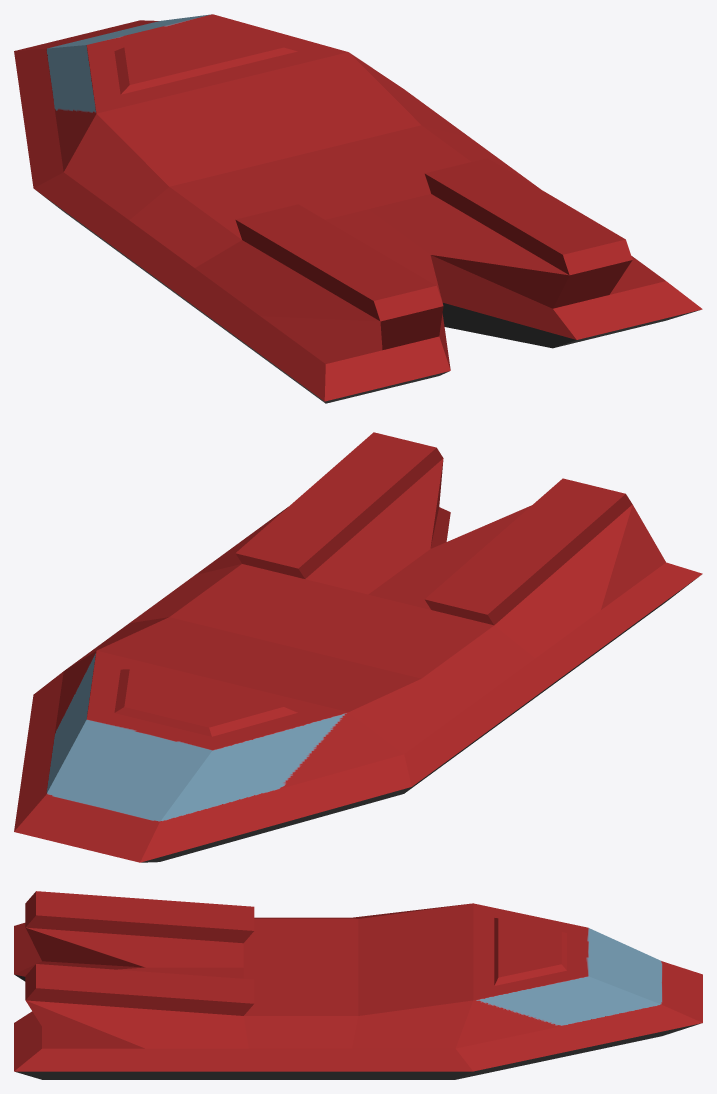
File: SpaceShooterPlayerShip.fbx
The picture shows the model from 3 angles, top to bottom: view 1: azimuth 30°, elevation 25°; view 2: azimuth 150°, elevation 25°; view 3: azimuth 270°, elevation 25°; orthographic projection. The views are drawn at different scales.
Visible parts, largest first — view 1: Gracz; view 2: Gracz; view 3: Gracz.
Part boxes in pixels (bbox=[...]): Gracz: bbox=[14, 14, 702, 403]; Gracz: bbox=[14, 432, 702, 862]; Gracz: bbox=[14, 891, 702, 1079].
Size of the model in its own units: 50 by 13.21 by 100.
1 material, 1 textured.
